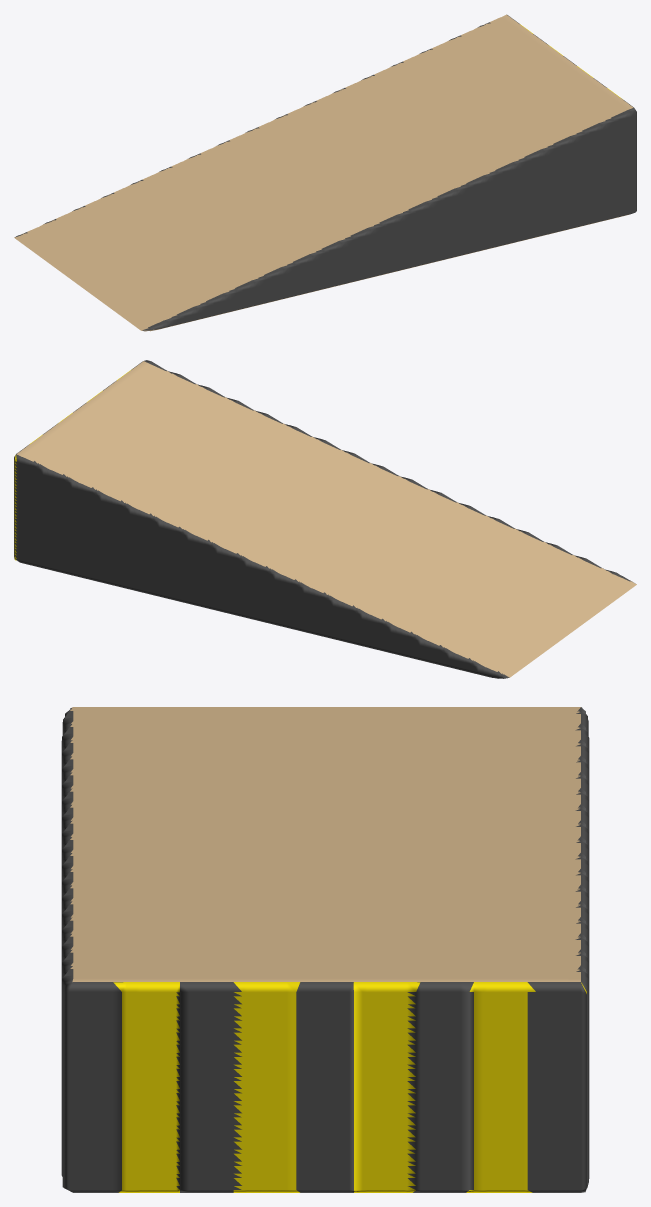
File: jump_ramp.glb
The picture shows the model from 3 angles, top to bottom: view 1: azimuth 30°, elevation 25°; view 2: azimuth 150°, elevation 25°; view 3: azimuth 270°, elevation 25°; orthographic projection. The views are drawn at different scales.
Parts seen in each view (by area): view 1: IronSmith model; view 2: IronSmith model; view 3: IronSmith model.
Part boxes in pixels (left/top/right/bottom): IronSmith model: left=14, top=14, right=636, bottom=331; IronSmith model: left=14, top=360, right=636, bottom=678; IronSmith model: left=61, top=707, right=589, bottom=1192.
Bounding box in the file's own units: 39 × 8 × 18.
